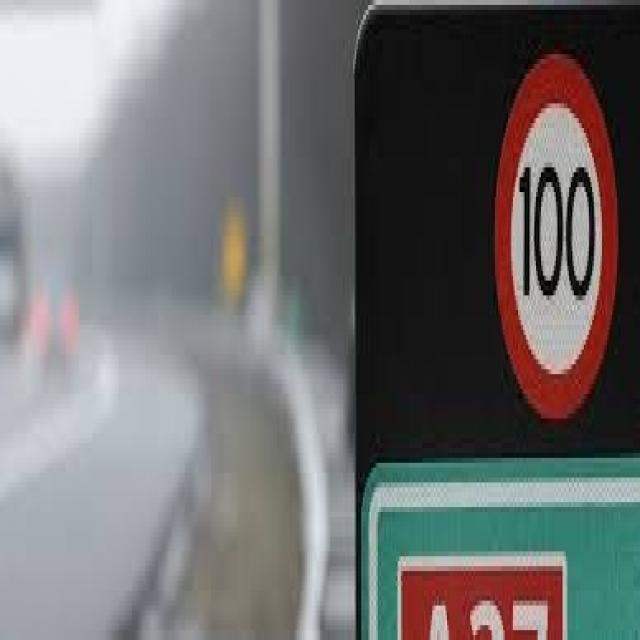speed_limit_100: (491, 58, 623, 432)
